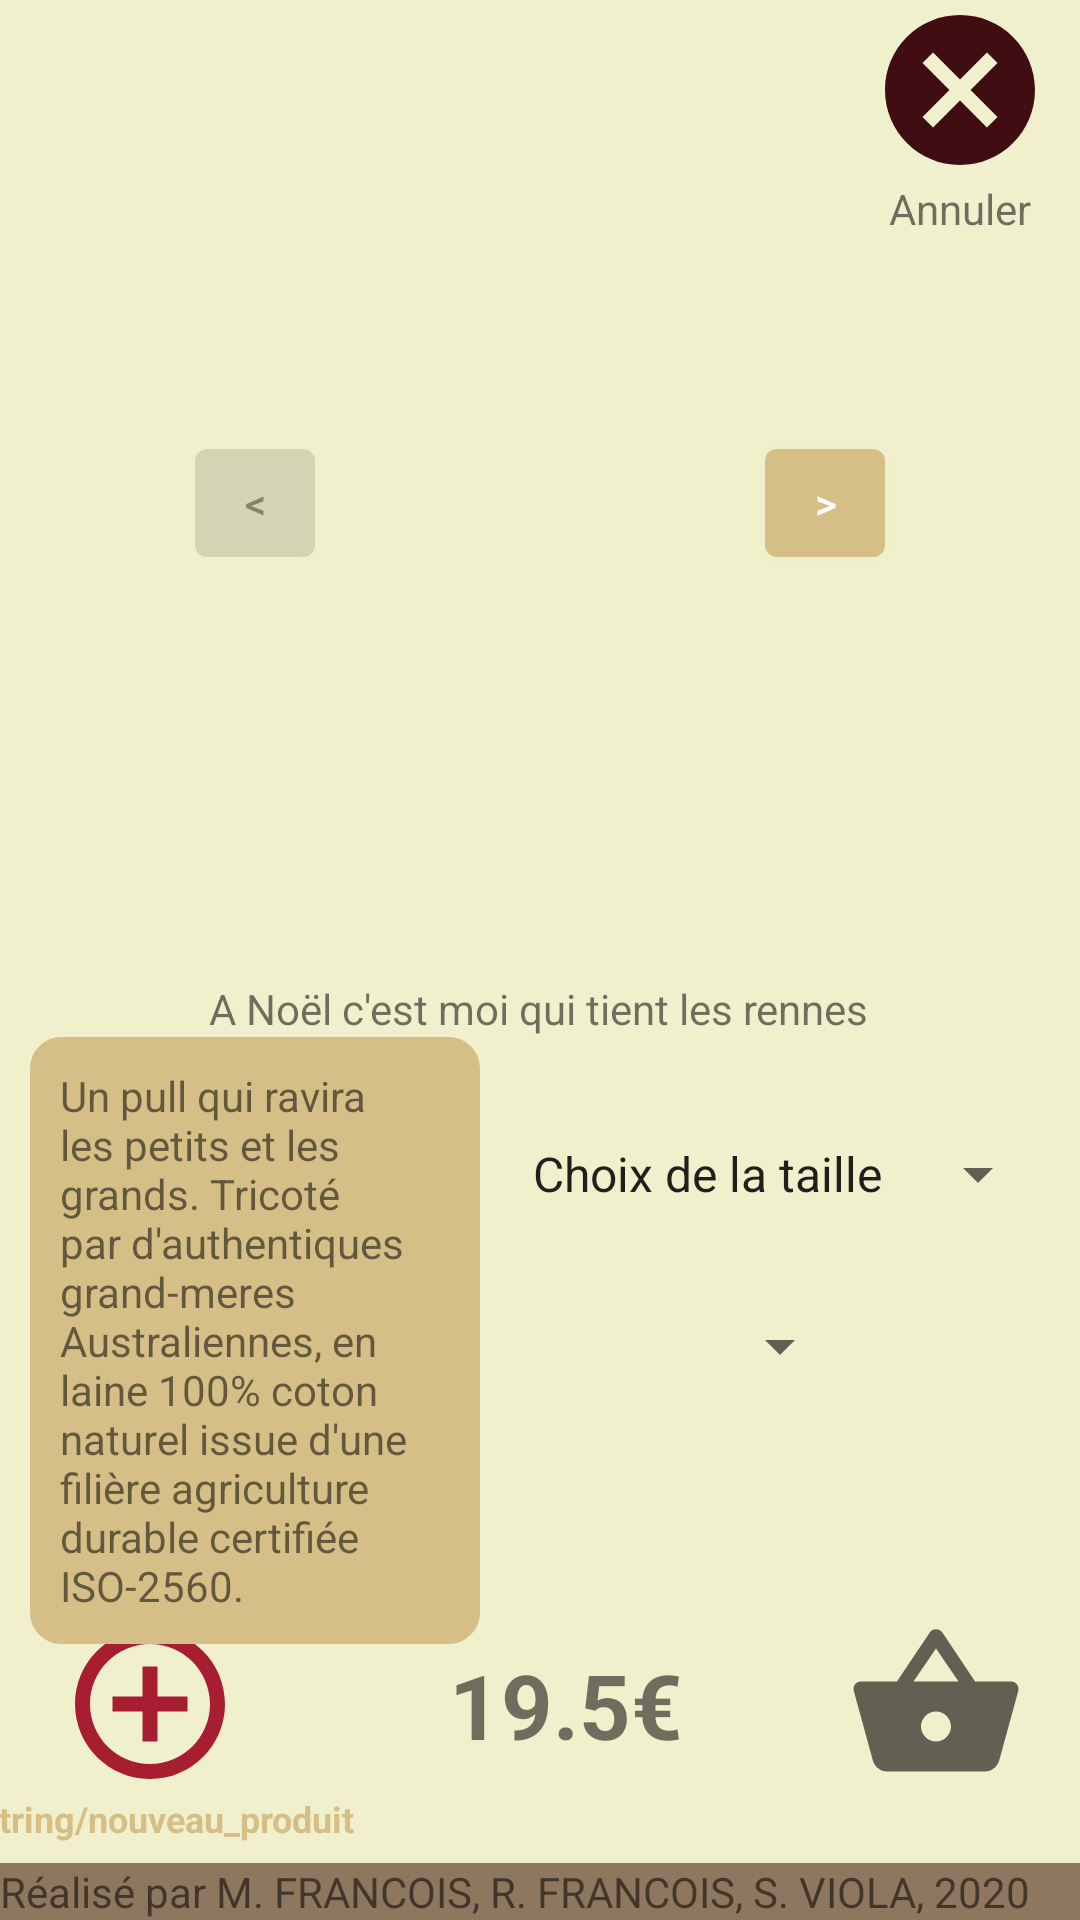

Screen size 1080*1920. Icon name, then its center in pixels as (x,y):
add circle: (150,1696)
shopping basket: (936,1700)
